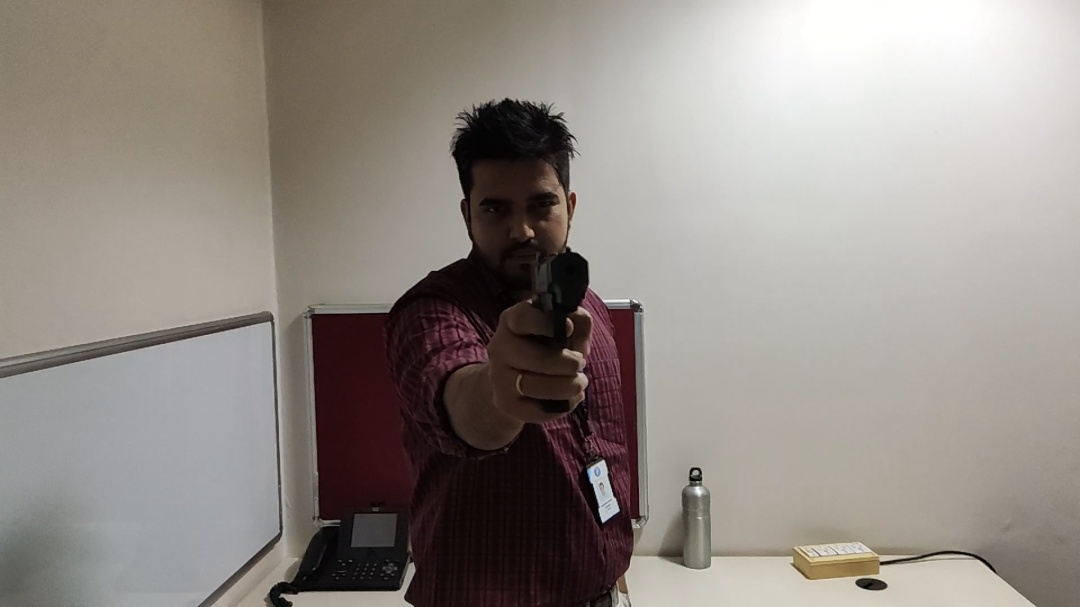gun: (525, 247, 594, 429)
